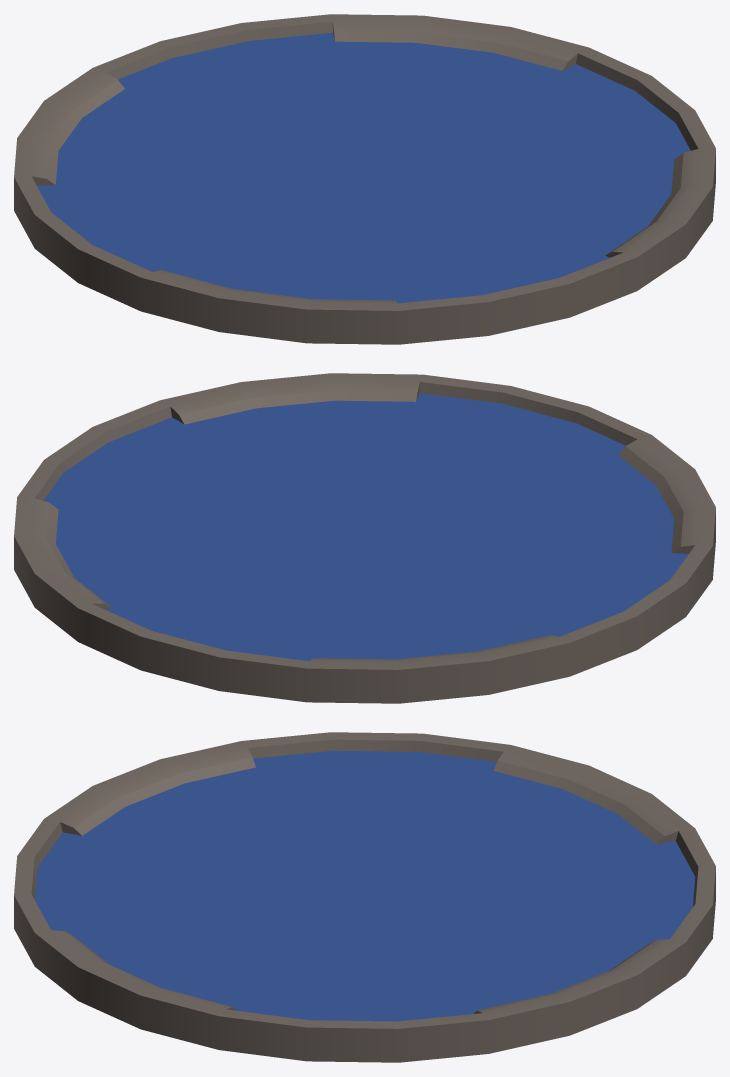
Rendered from Park_Circle.fbx.
3 renders of one model, top to bottom at view 1: azimuth 30°, elevation 25°; view 2: azimuth 150°, elevation 25°; view 3: azimuth 270°, elevation 25°, orthographic.
Visible parts, largest first — view 1: Park_Circle; view 2: Park_Circle; view 3: Park_Circle.
Boxes of the visible parts, x1,y1,x2,y2 form: Park_Circle: [14, 14, 715, 344]; Park_Circle: [14, 373, 715, 703]; Park_Circle: [14, 732, 715, 1062].
Bounding box in the file's own units: 38.67 × 2.06 × 38.67.
